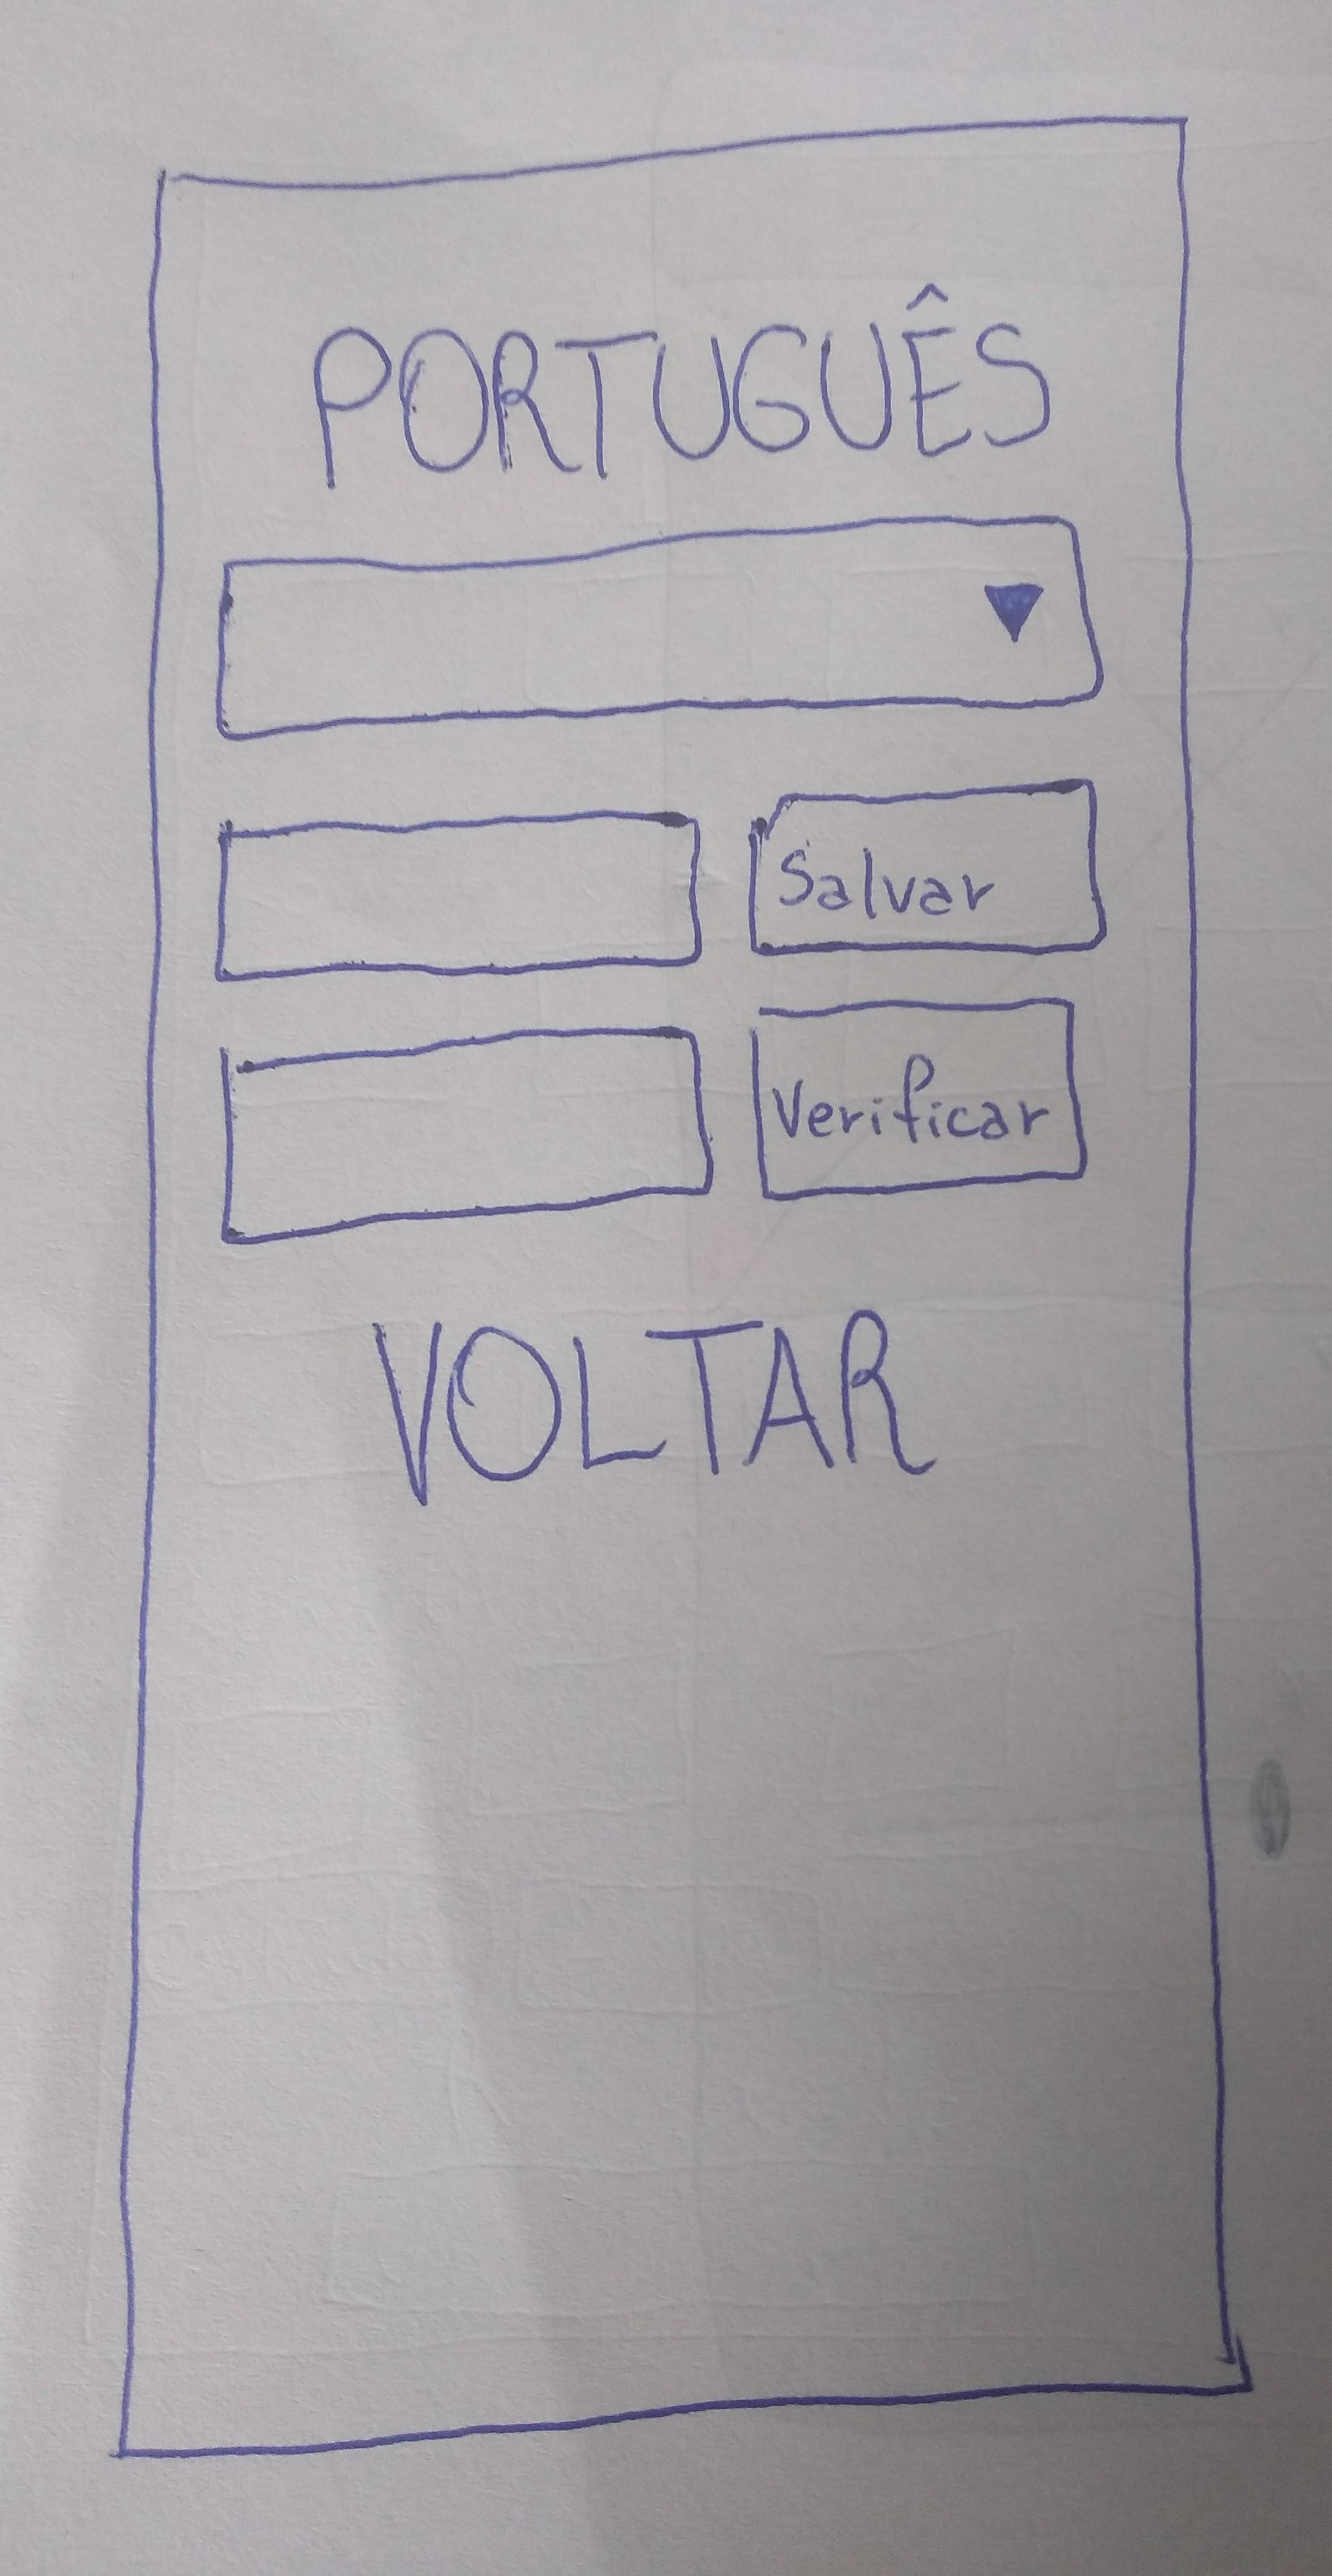Button: (751, 995, 1087, 1202), (746, 779, 1104, 953)
Label: (311, 282, 1050, 489), (370, 1309, 940, 1505)
ListPicker: (212, 516, 1103, 740)
Screen: (114, 114, 1254, 2457)
TextBox: (219, 1024, 714, 1246), (214, 812, 702, 983)
